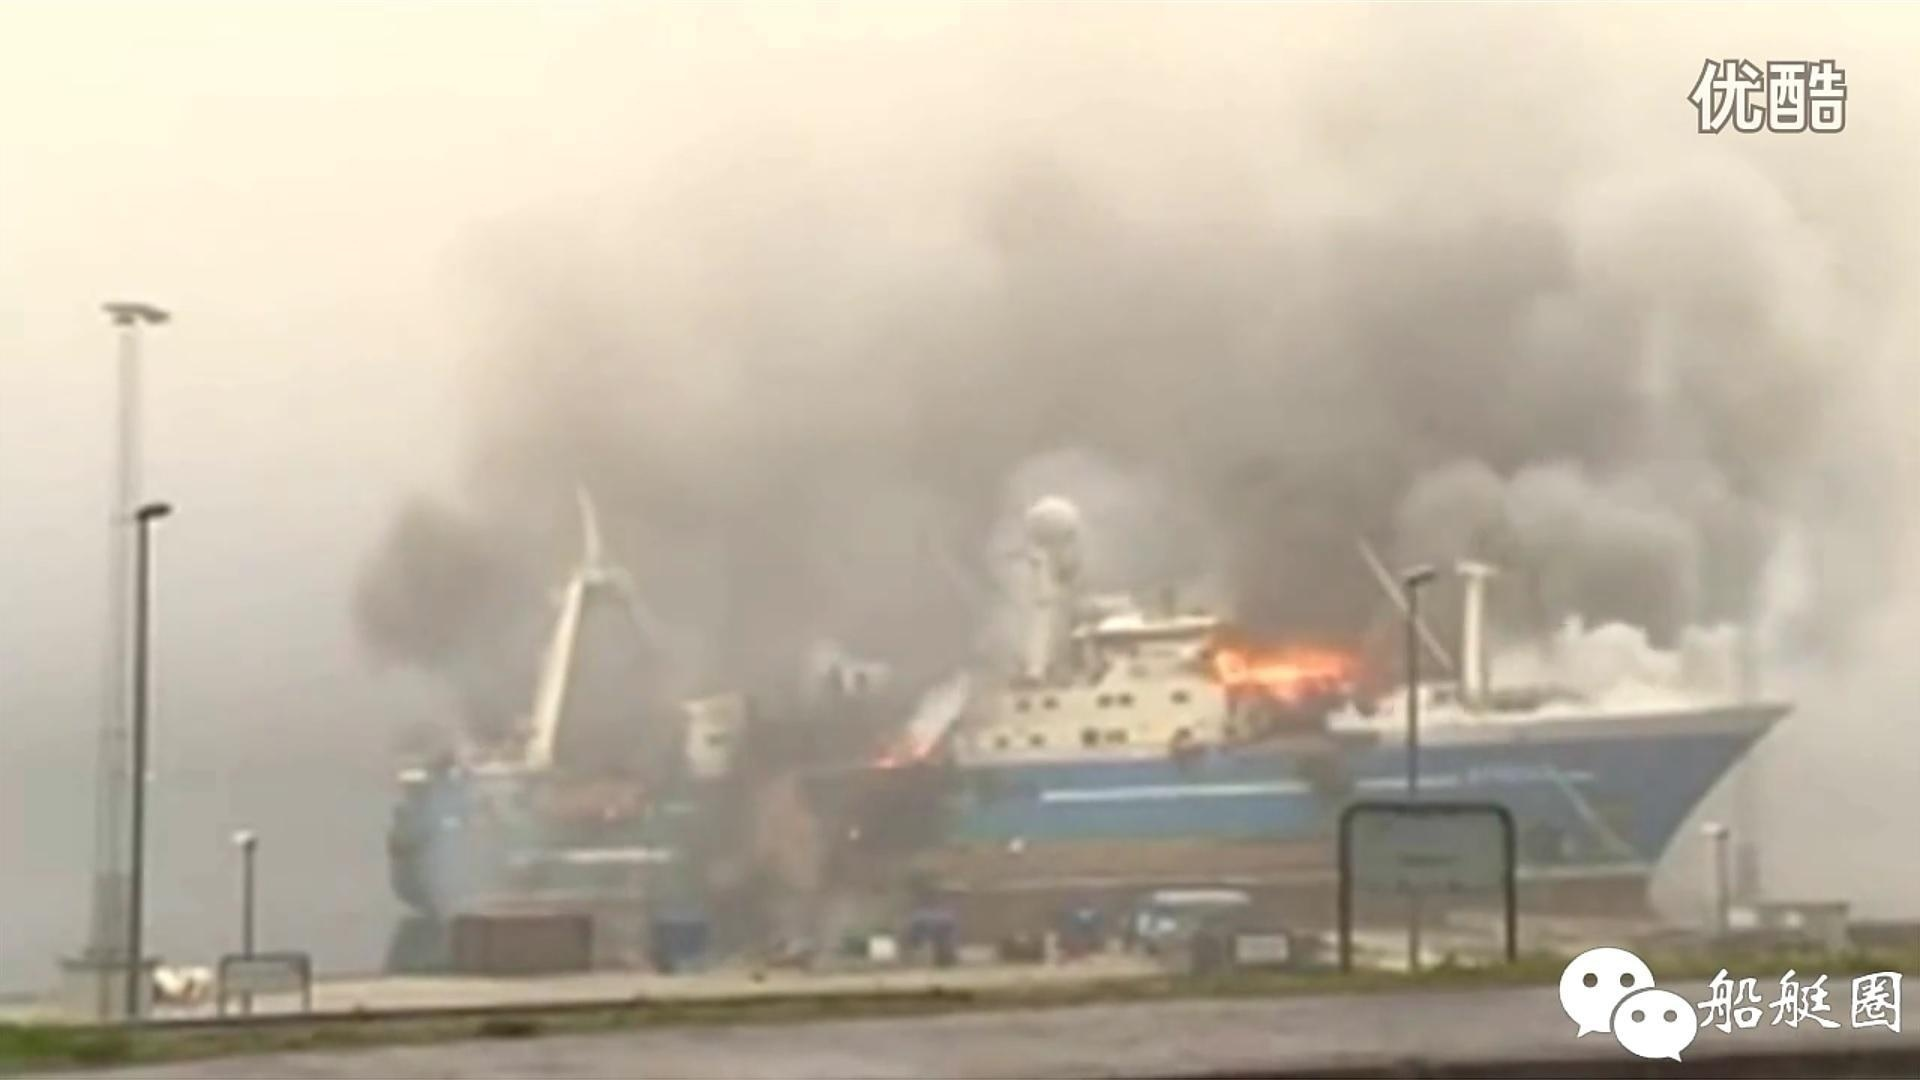fire: (1212, 636, 1353, 694)
